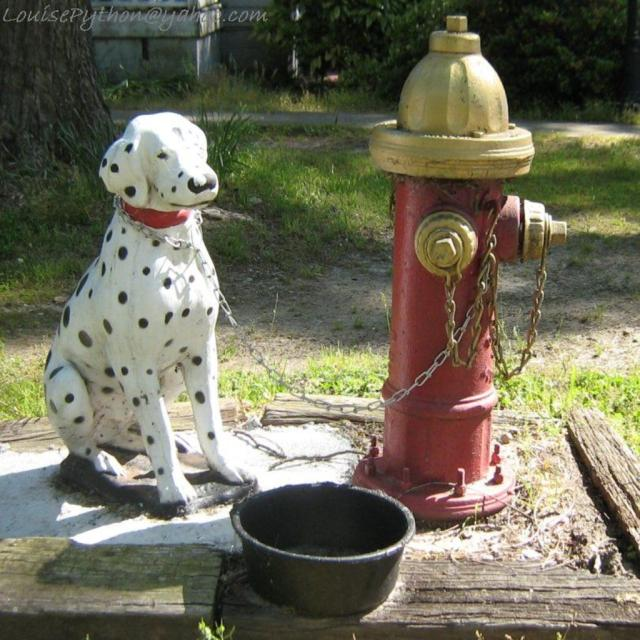fire_hydrant: (354, 16, 566, 521)
